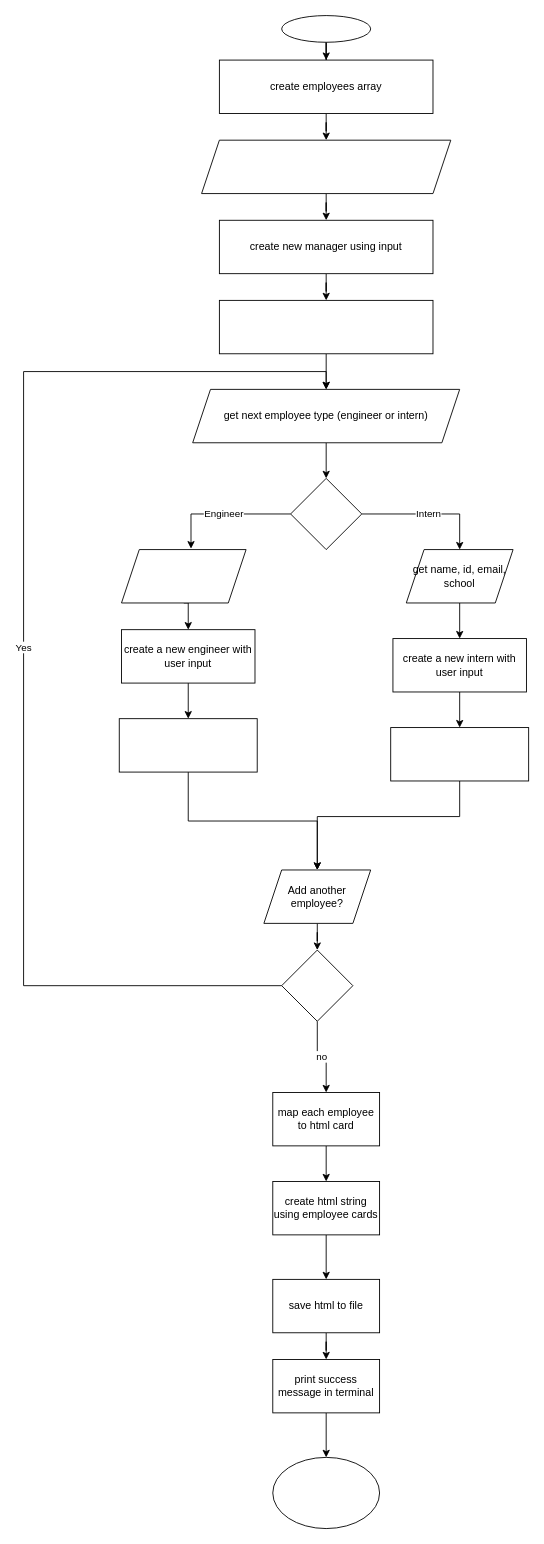
This 544x1544 diagram has some shape labels left out. Here are the shapes that lost their labels. From the top down, the centre of each, then its label:
At (x=326, y=166): "get manager name, id, office no, email".
At (x=325, y=326): "add manager to employees array".
At (x=183, y=576): "get name, id, email, and github".
At (x=187, y=745): "add engineer to employees array".
At (x=459, y=754): "add intern to employees array".
At (x=326, y=1492): "end".
